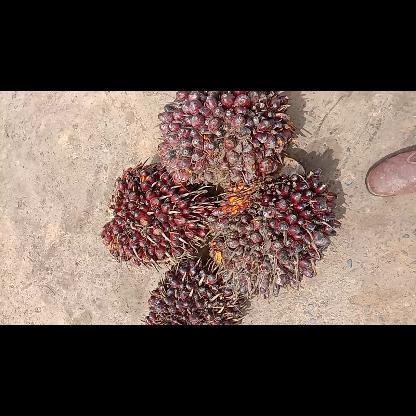Kurang masak: (204, 155, 342, 298), (98, 154, 216, 268)
TBS mentah: (152, 92, 300, 192), (140, 254, 250, 324)
